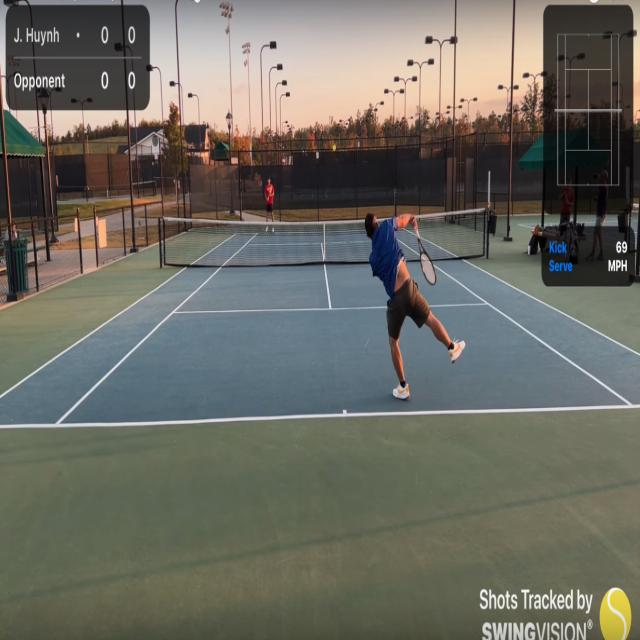ball: (332, 144, 336, 152)
